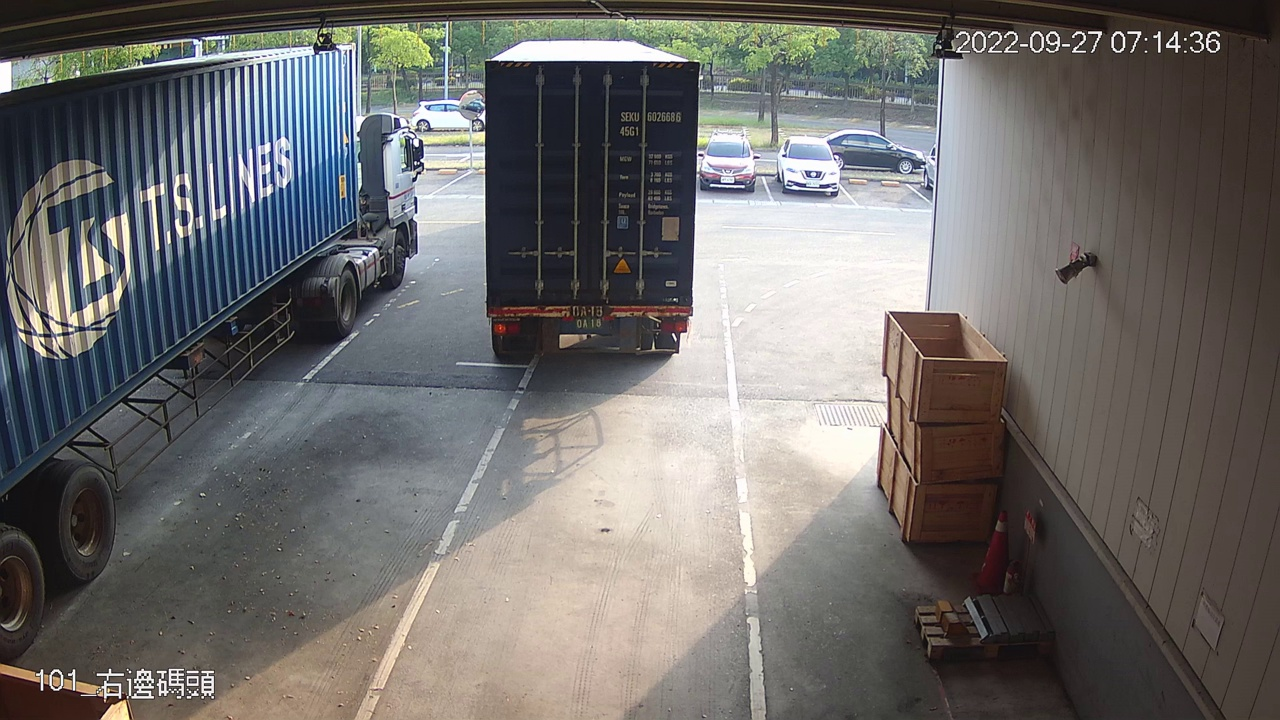container: (613, 106, 687, 142)
